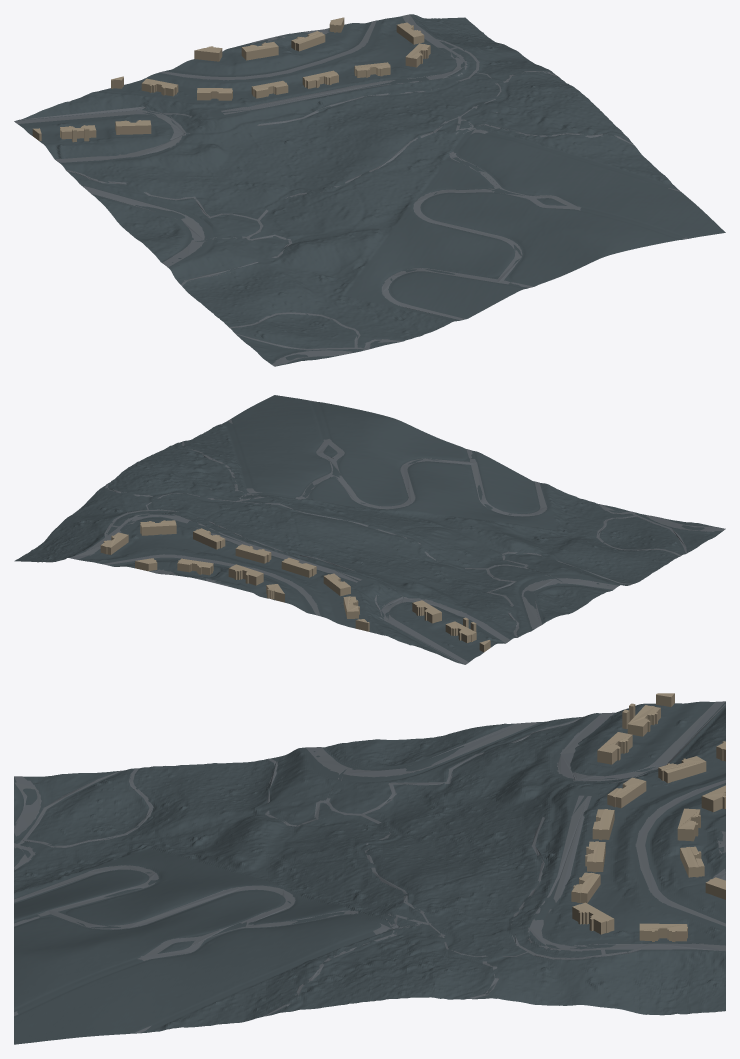
File: epsg26910-1424-10894.lod0.glb
The picture shows the model from 3 angles, top to bottom: view 1: azimuth 30°, elevation 25°; view 2: azimuth 150°, elevation 25°; view 3: azimuth 270°, elevation 25°; orthographic projection. The views are drawn at different scales.
Visible parts, largest first — view 1: epsg26910-1424-10894-lod0; view 2: epsg26910-1424-10894-lod0; view 3: epsg26910-1424-10894-lod0.
Boxes of the visible parts, bbox=[...] form: epsg26910-1424-10894-lod0: bbox=[14, 14, 725, 366]; epsg26910-1424-10894-lod0: bbox=[14, 395, 725, 664]; epsg26910-1424-10894-lod0: bbox=[14, 693, 725, 1044].
Bounding box in the file's own units: 384 × 72.13 × 384.
